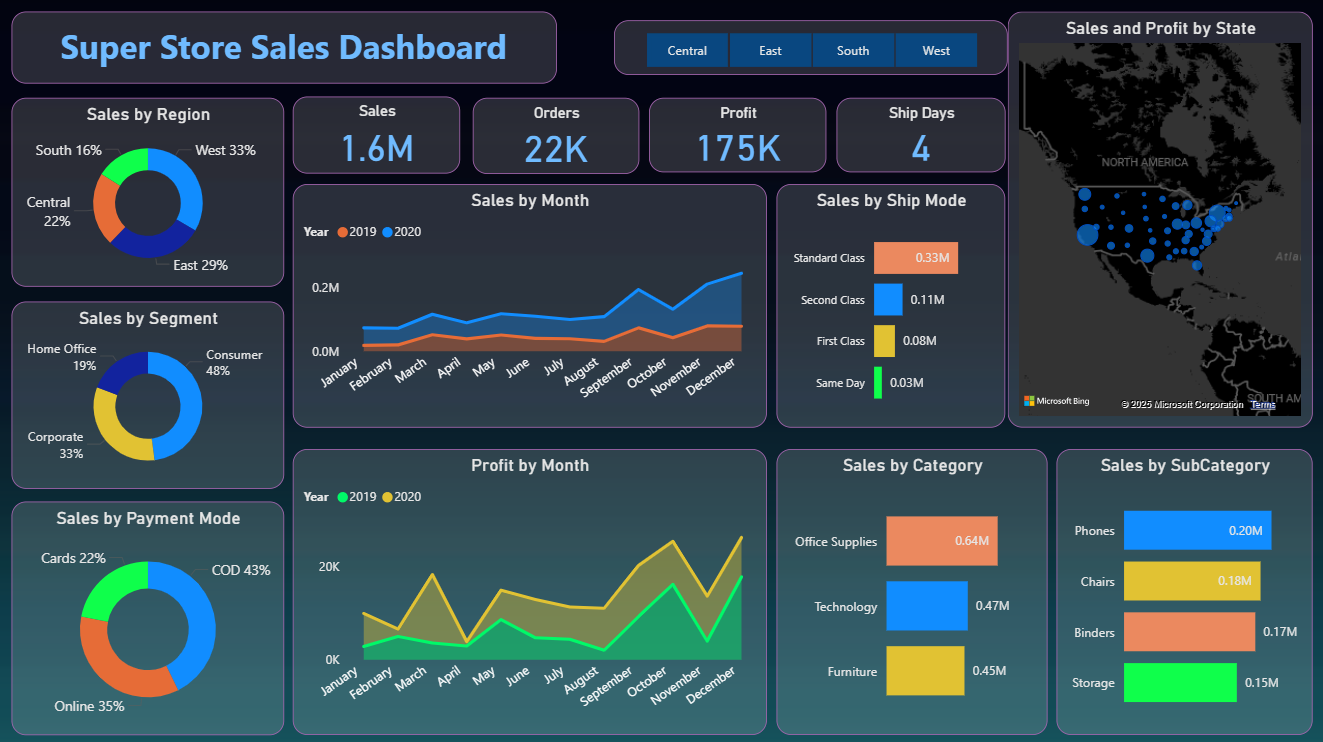

This screenshot's page, from the dashboard's own definition file:
{"tool":"powerbi","page":{"name":"Dashboard","canvas":[1280,720],"ordinal":0},"visuals":[{"type":"clusteredBarChart","title":"Sales by Category","fields":{"Category":["SuperStore_Sales_Dataset.Category"],"Y":["Sum(SuperStore_Sales_Dataset.Sales)"]},"box":[750.4,434.3,261.8,276.3],"z":0},{"type":"clusteredBarChart","title":"Sales by SubCategory","fields":{"Category":["SuperStore_Sales_Dataset.Sub-Category"],"Y":["Sum(SuperStore_Sales_Dataset.Sales)"]},"box":[1020.6,434.3,247.3,276.3],"z":1000},{"type":"clusteredBarChart","title":"Sales by Ship Mode","fields":{"Category":["SuperStore_Sales_Dataset.Ship Mode"],"Y":["Sum(SuperStore_Sales_Dataset.Sales)"]},"box":[750.4,178.6,220.8,235.3],"z":2000},{"type":"stackedAreaChart","title":"Sales by Month","fields":{"Y":["Sum(SuperStore_Sales_Dataset.Sales)"],"Category":["SuperStore_Sales_Dataset.Order Date.Variation.Date Hierarchy.Month","SuperStore_Sales_Dataset.Order Date.Variation.Date Hierarchy.Day"],"Series":["SuperStore_Sales_Dataset.Order Date.Variation.Date Hierarchy.Year"]},"box":[283.5,178.6,457.2,235.3],"z":3000},{"type":"stackedAreaChart","title":"Profit by Month","fields":{"Category":["SuperStore_Sales_Dataset.Order Date.Variation.Date Hierarchy.Month","SuperStore_Sales_Dataset.Order Date.Variation.Date Hierarchy.Day"],"Series":["SuperStore_Sales_Dataset.Order Date.Variation.Date Hierarchy.Year"],"Y":["Sum(SuperStore_Sales_Dataset.Profit)"]},"box":[283.5,434.3,457.2,276.3],"z":4000},{"type":"map","title":"Sales and Profit by State","fields":{"Category":["SuperStore_Sales_Dataset.State"],"Size":["Sum(SuperStore_Sales_Dataset.Sales)"]},"box":[973.6,29,294.4,384.9],"z":5000},{"type":"donutChart","title":"Sales by Segment","fields":{"Category":["SuperStore_Sales_Dataset.Segment"],"Y":["Sum(SuperStore_Sales_Dataset.Sales)"]},"box":[12.1,292,263,181],"z":6000},{"type":"donutChart","title":"Sales by Payment Mode","fields":{"Category":["SuperStore_Sales_Dataset.Payment Mode"],"Y":["Sum(SuperStore_Sales_Dataset.Sales)"]},"box":[12.1,485,263,225.6],"z":7000},{"type":"slicer","fields":{"Values":["SuperStore_Sales_Dataset.Region"]},"box":[591.2,29,380,53.1],"z":8000},{"type":"textbox","box":[12.1,12.1,526,70],"z":9000},{"type":"card","title":"Sales","fields":{"Values":["Sum(SuperStore_Sales_Dataset.Sales)"]},"box":[283.5,94.1,161.7,74.8],"z":10000},{"type":"card","title":"Orders","fields":{"Values":["Sum(SuperStore_Sales_Dataset.Quantity)"]},"box":[457.2,95.3,160.5,73.6],"z":11000},{"type":"card","title":"Profit","fields":{"Values":["Sum(SuperStore_Sales_Dataset.Profit)"]},"box":[627.3,95.3,171.3,72.4],"z":12000},{"type":"card","title":"Ship Days","fields":{"Values":["Avg(SuperStore_Sales_Dataset.AvrgDelivery)"]},"box":[808.3,95.3,162.9,72.4],"z":13000},{"type":"donutChart","title":"Sales by Region","fields":{"Category":["SuperStore_Sales_Dataset.Region"],"Y":["Sum(SuperStore_Sales_Dataset.Sales)"]},"box":[12.1,95.3,263,182.2],"z":14000}]}

Visuals, with their boxes in screenshot pixels (x1, y1, x2, y2), scaled from the page's 1280x720 canvas onto the 1323x742 screenshot:
"Sales by Category" clusteredBarChart: [x1=776, y1=448, x2=1046, y2=732]
"Sales by SubCategory" clusteredBarChart: [x1=1055, y1=448, x2=1310, y2=732]
"Sales by Ship Mode" clusteredBarChart: [x1=776, y1=184, x2=1004, y2=427]
"Sales by Month" stackedAreaChart: [x1=293, y1=184, x2=766, y2=427]
"Profit by Month" stackedAreaChart: [x1=293, y1=448, x2=766, y2=732]
"Sales and Profit by State" map: [x1=1006, y1=30, x2=1311, y2=427]
"Sales by Segment" donutChart: [x1=13, y1=301, x2=284, y2=487]
"Sales by Payment Mode" donutChart: [x1=13, y1=500, x2=284, y2=732]
slicer - SuperStore_Sales_Dataset.Region: [x1=611, y1=30, x2=1004, y2=85]
textbox: [x1=13, y1=12, x2=556, y2=85]
"Sales" card: [x1=293, y1=97, x2=460, y2=174]
"Orders" card: [x1=473, y1=98, x2=638, y2=174]
"Profit" card: [x1=648, y1=98, x2=825, y2=173]
"Ship Days" card: [x1=835, y1=98, x2=1004, y2=173]
"Sales by Region" donutChart: [x1=13, y1=98, x2=284, y2=286]
